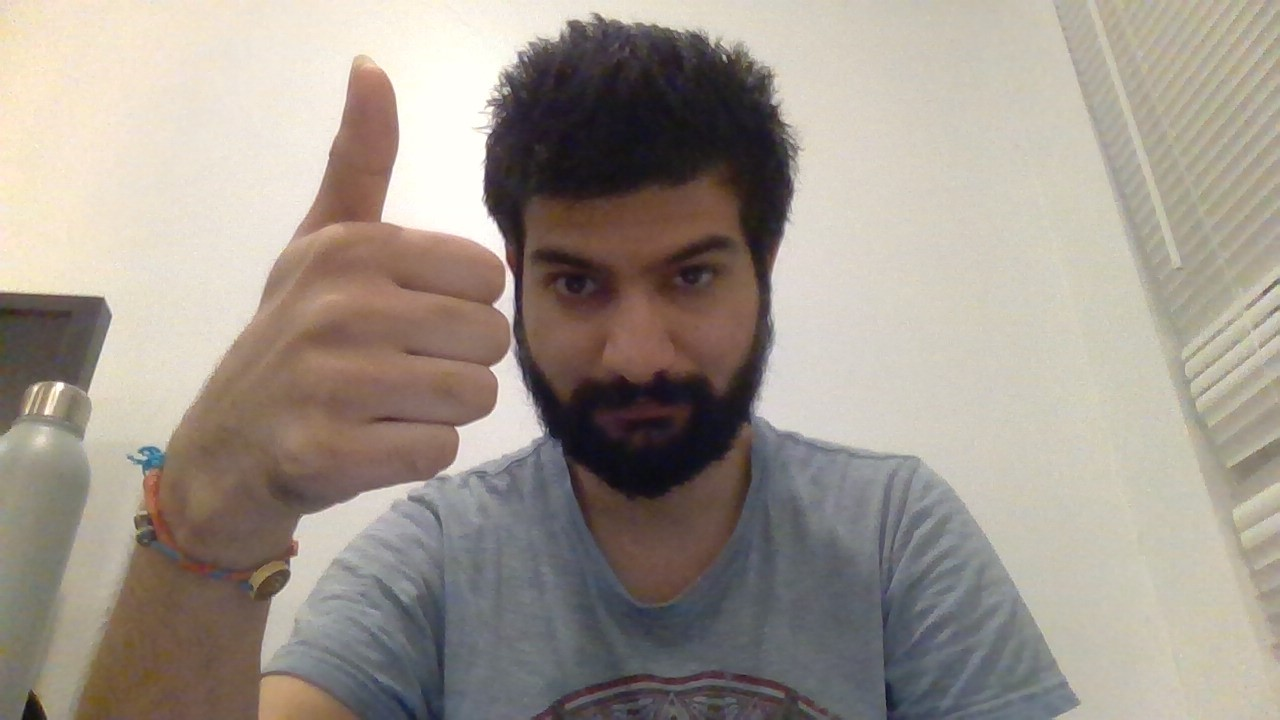up: (238, 48, 523, 505)
